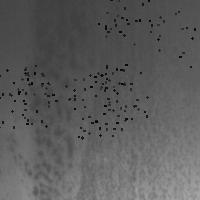pitted_surface: (85, 3, 188, 195), (21, 2, 92, 196), (65, 78, 125, 137), (89, 64, 146, 123), (0, 65, 55, 125), (0, 72, 48, 126), (98, 0, 157, 43), (158, 11, 200, 66)
